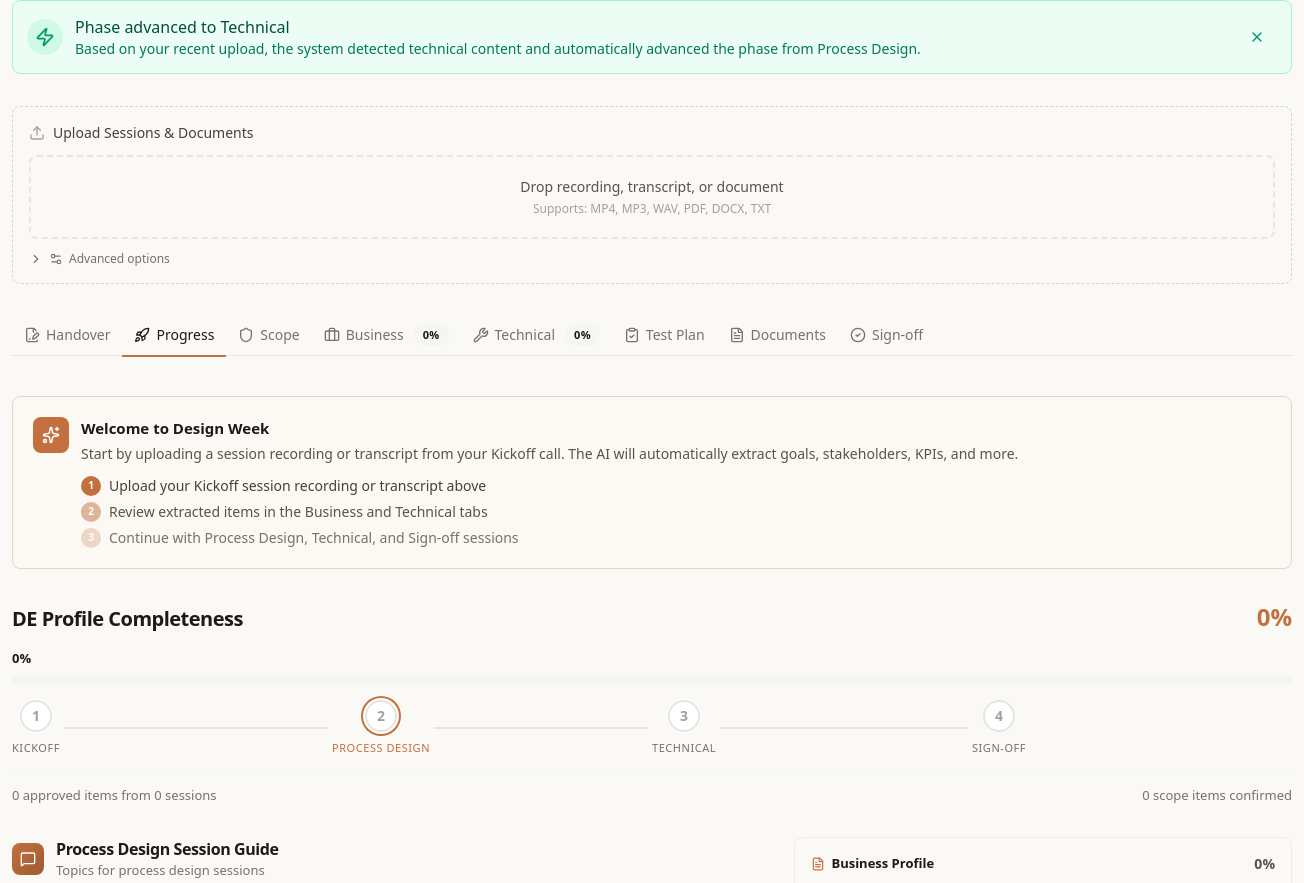
Test case: DEWorkspace › dismisses the phase advance banner when close button is clicked
This screenshot has width=1304, height=883.
Expected: the text "Phase advanced to Technical" is shown, [75, 16, 290, 38]
Click the 1st button at (1257, 37), box [1237, 21, 1277, 53]
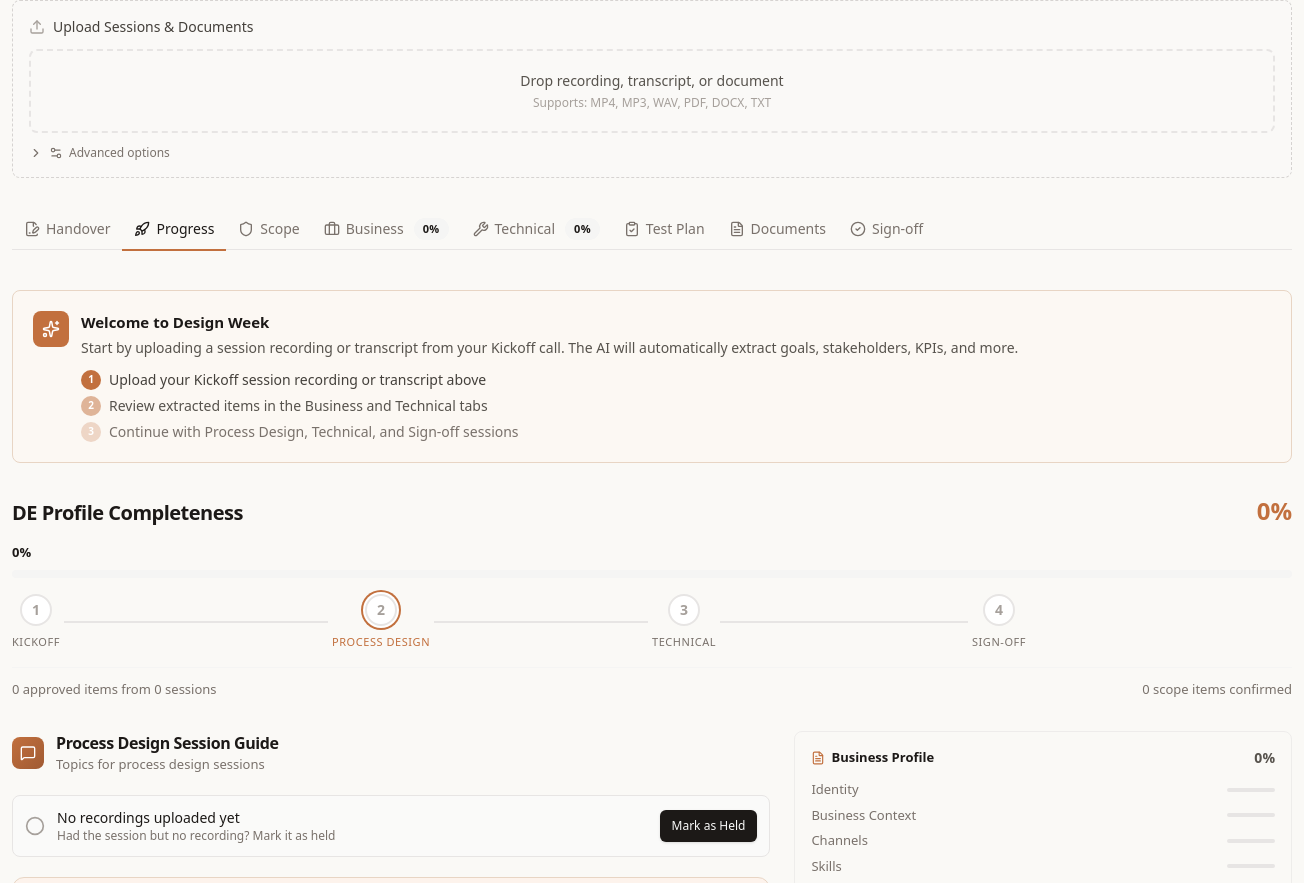
Expected: the text "Phase advanced to Technical" is gone
